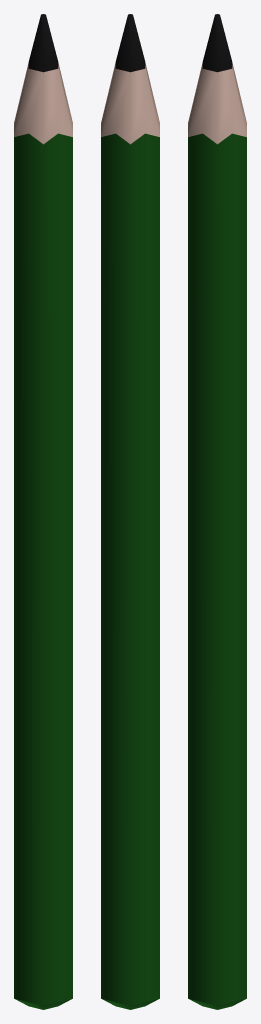
The model's file is Pen.FBX.
3 views of the same model, side by side, from view 1: azimuth 30°, elevation 25°; view 2: azimuth 210°, elevation 25°; view 3: azimuth 270°, elevation 25° (orthographic).
Parts seen in each view (by area): view 1: Pen; view 2: Pen; view 3: Pen.
Boxes of the visible parts, x1,y1,x2,y2 form: Pen: (14,14,72,1009); Pen: (101,14,159,1009); Pen: (188,14,246,1009).
Size of the model in its own units: 0.315 by 5.05 by 0.2728.
